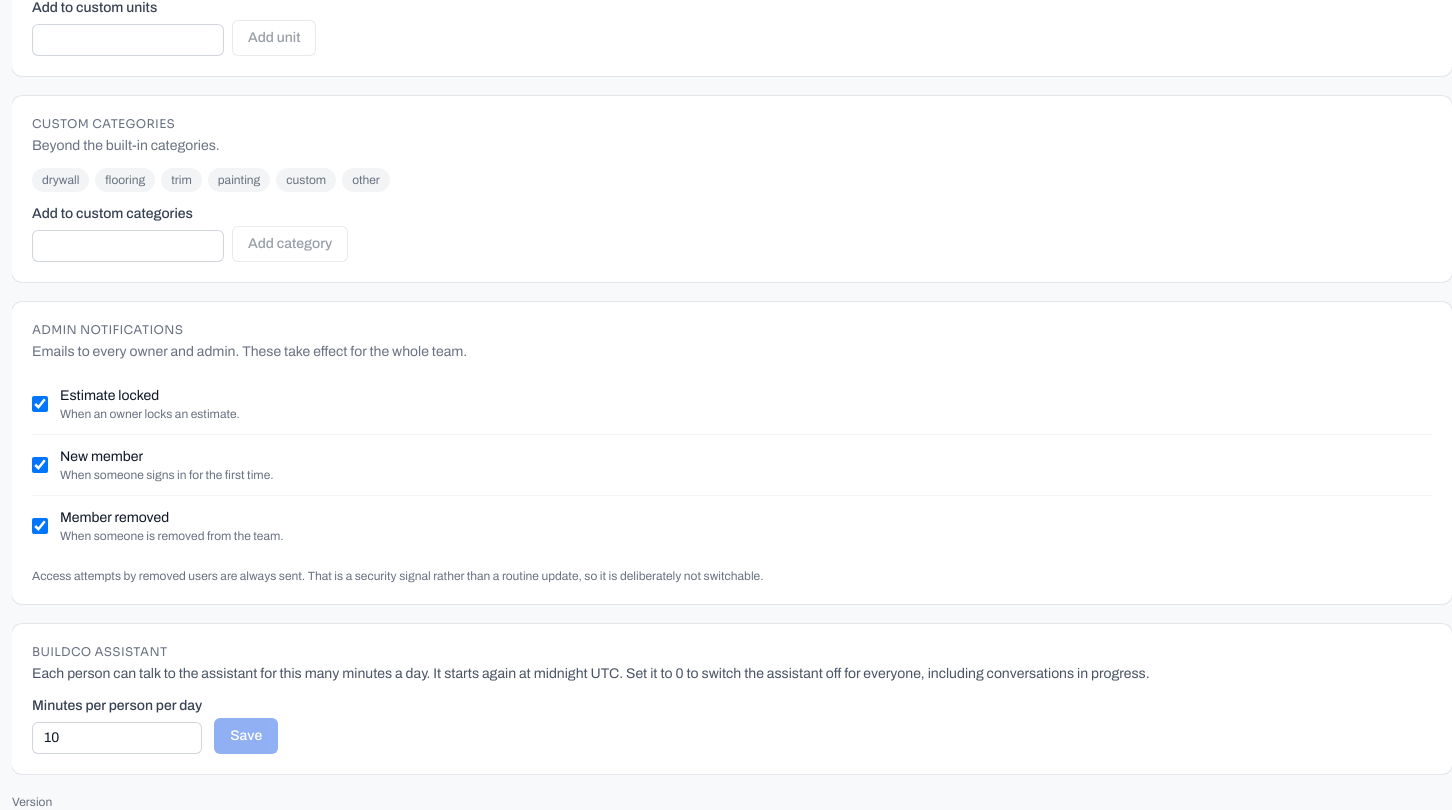
it: the assistant's daily allowance › accepts zero, which switches the assistant off for the team
(page scrolled)
Replace the text in the number field labelled "Minutes per person per day" with "0" at (117, 738), box [32,722,202,754]
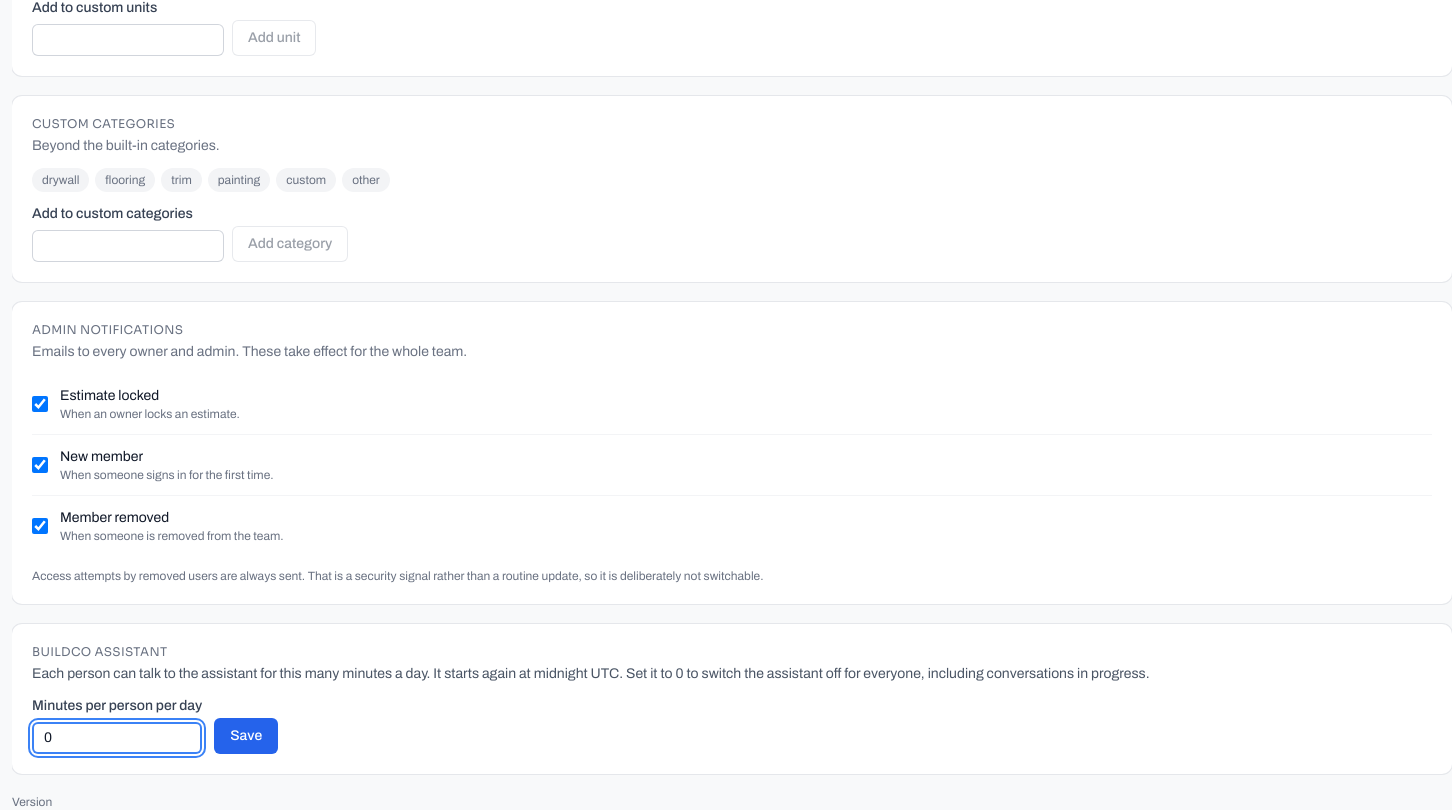
Click the button "Save".
click(246, 736)  # box [214,718,278,754]
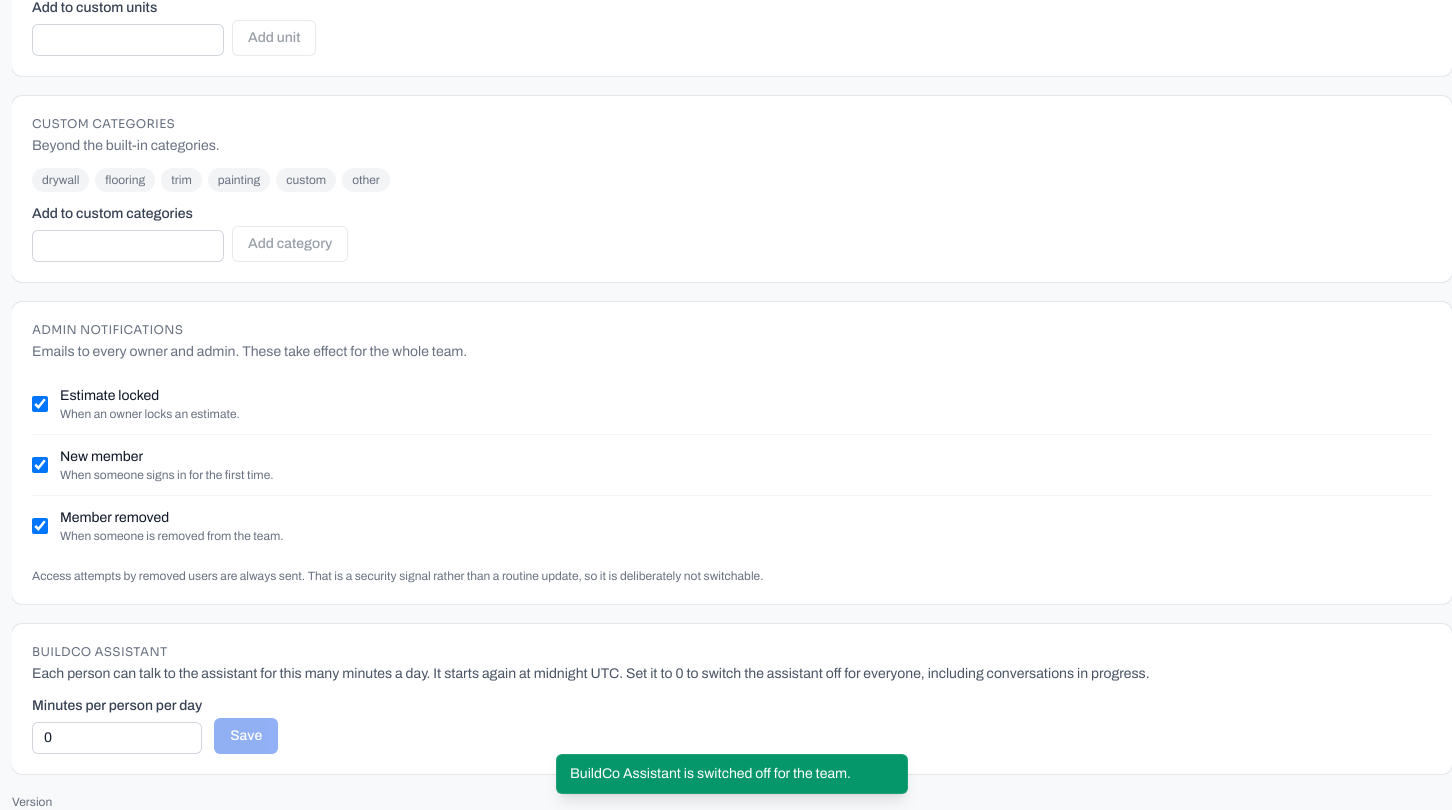
Expected: the text "BuildCo Assistant is switched off for the team." is shown, [556,754,908,794]
